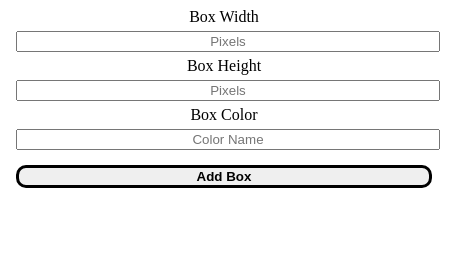
Test: tests for width greater than 500
Check: the text "Value Must Be 500 Or Less" is not shown
Type "600" into the field labelled "Box Width" at x=228, y=42, box x1=16 y1=31 x2=440 y2=52
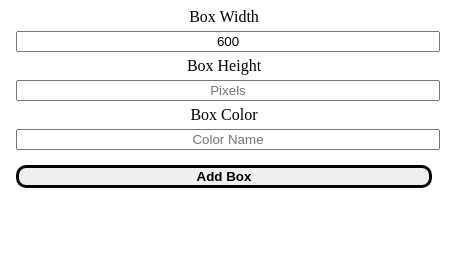
Click the button "Add Box" at x=224, y=176, box x1=16 y1=165 x2=432 y2=188
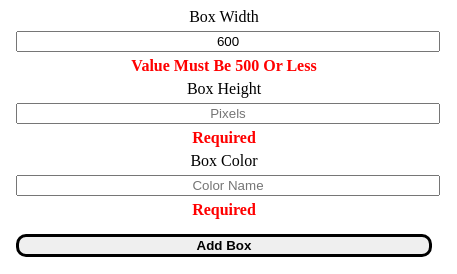
Check: the text "Value Must Be 500 Or Less" is shown, box x1=131 y1=57 x2=317 y2=74
